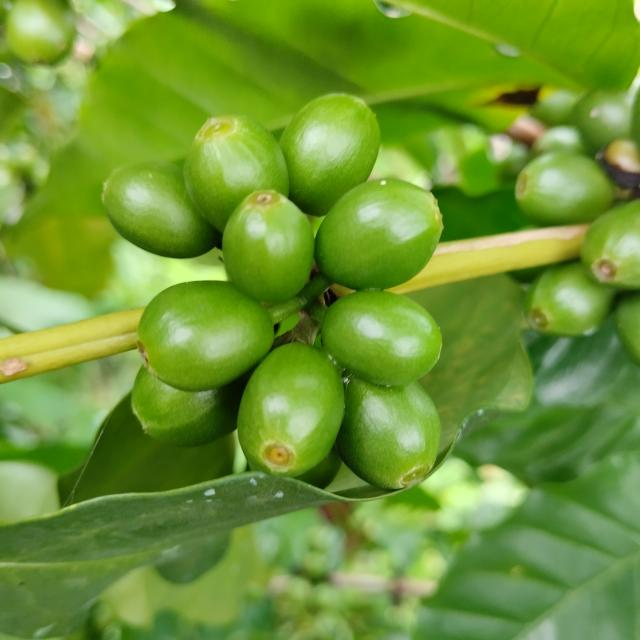green: (137, 281, 274, 392), (237, 342, 345, 477), (315, 179, 443, 290), (183, 114, 289, 232), (279, 93, 380, 216), (335, 376, 441, 490), (101, 161, 221, 258), (322, 290, 442, 386), (222, 189, 315, 303), (131, 366, 247, 448), (516, 152, 616, 225), (527, 262, 616, 336), (581, 199, 640, 289)
